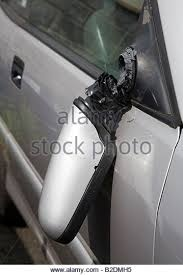Broken-glass: (64, 50, 139, 170)
